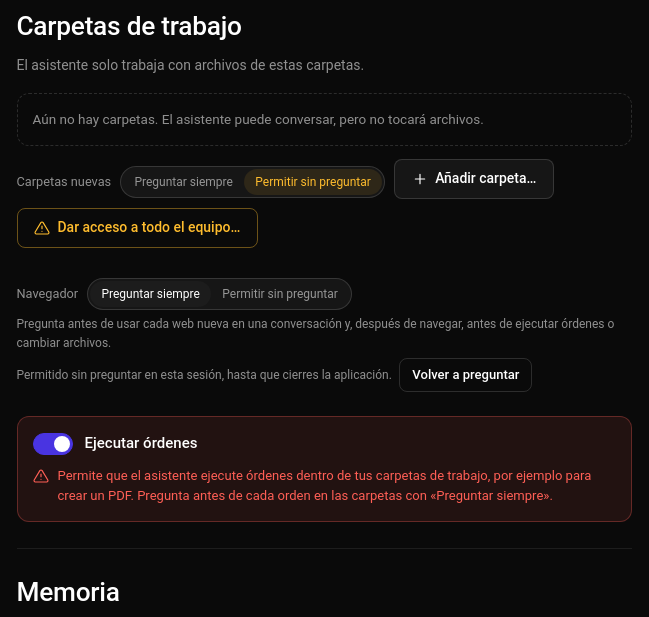
Test case: browser permission mode setting › notes a session allow and offers to ask again
The image size is (649, 617).
(page scrolled)
Check: the message shows "Permitido sin preguntar en esta sesión", box [16,368,392,382]
Click the button "Volver a preguntar" at (466, 375), box [399,358,532,392]
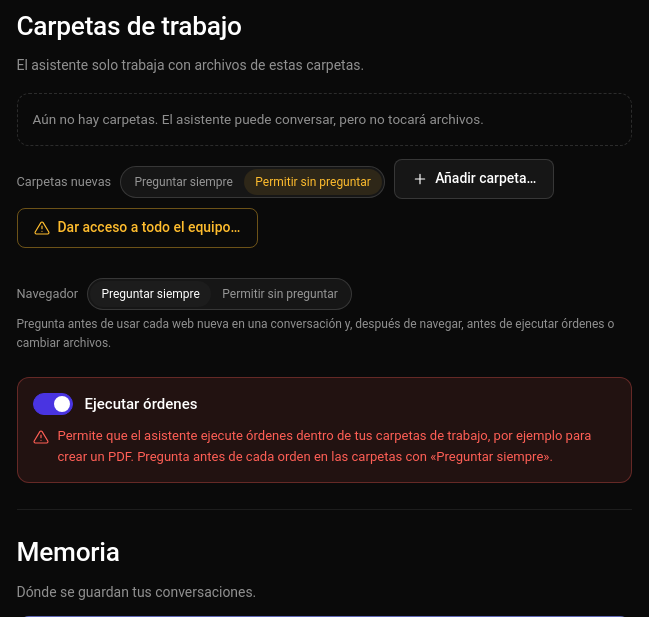
Check: the text "Permitido sin preguntar en esta sesión" is gone
